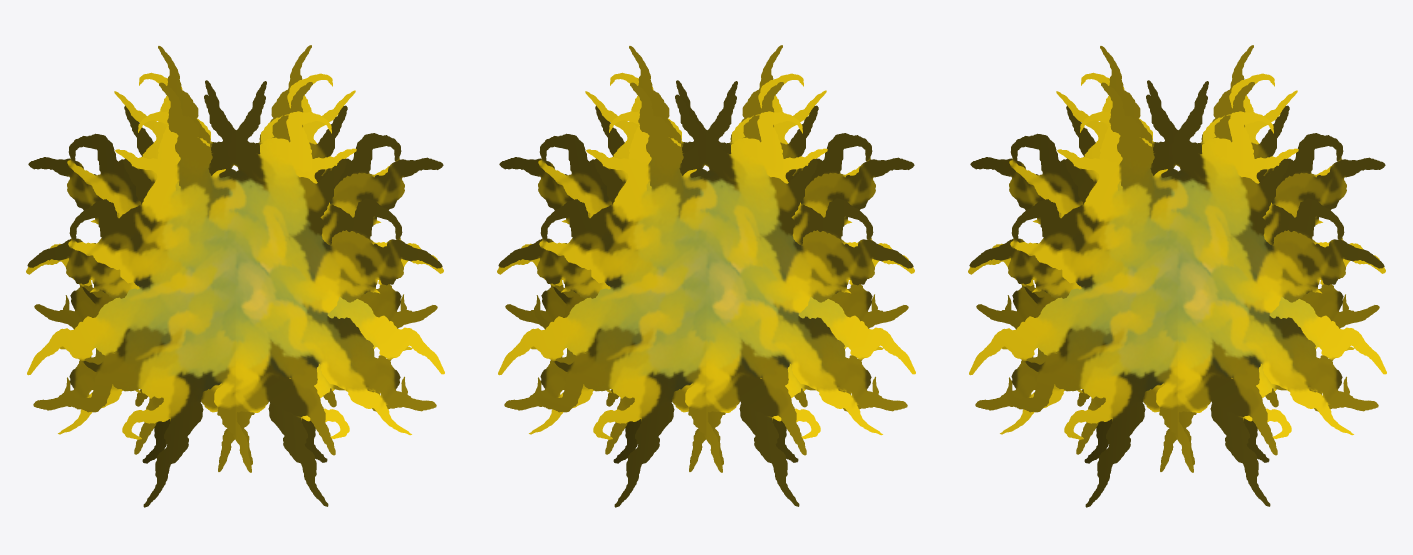
The model's file is painted-weed-053.glb.
3 views of the same model, side by side, from view 1: azimuth 30°, elevation 25°; view 2: azimuth 150°, elevation 25°; view 3: azimuth 270°, elevation 25° (orthographic).
Size of the model in its own units: 10.29 by 9.79 by 8.93.
1 material, 1 textured.
